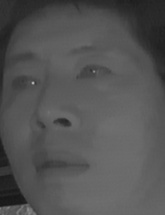eye: (73, 62, 113, 87), (7, 72, 43, 95)
mouth: (28, 144, 95, 184)
